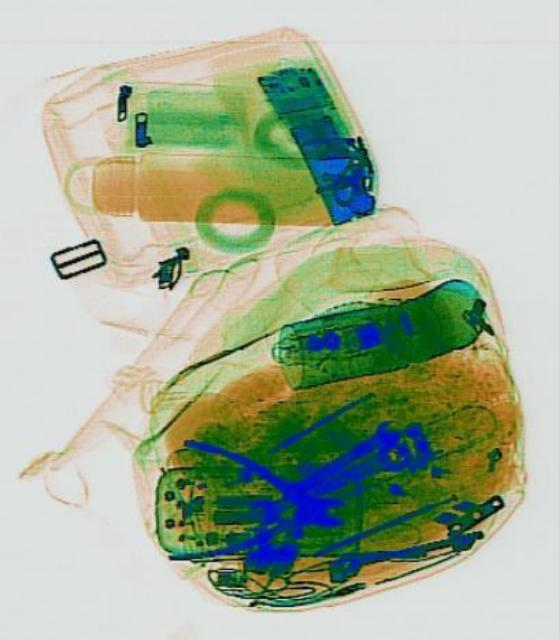Pliers: (162, 436, 345, 566)
Wrench: (247, 412, 400, 530), (329, 530, 444, 578)
